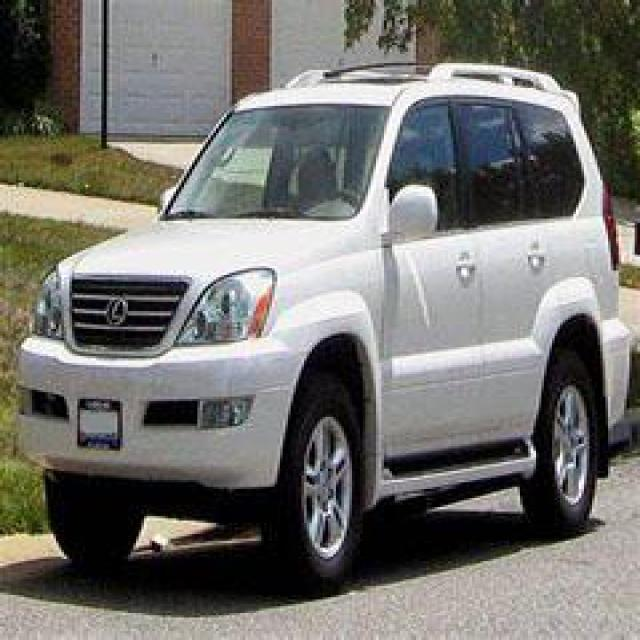car: (0, 31, 629, 588)
